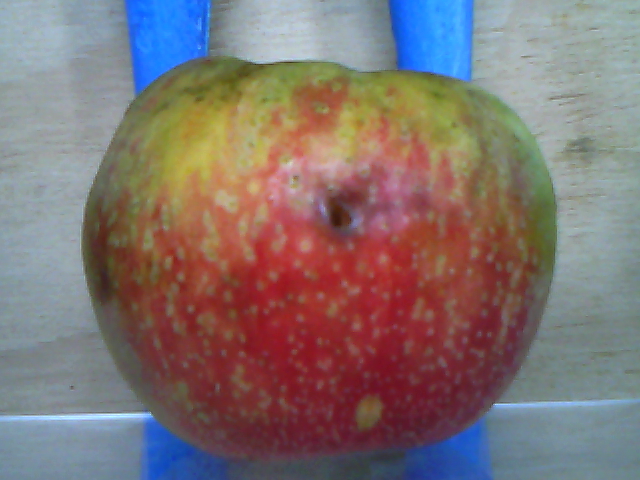puncture: (324, 199, 354, 232)
